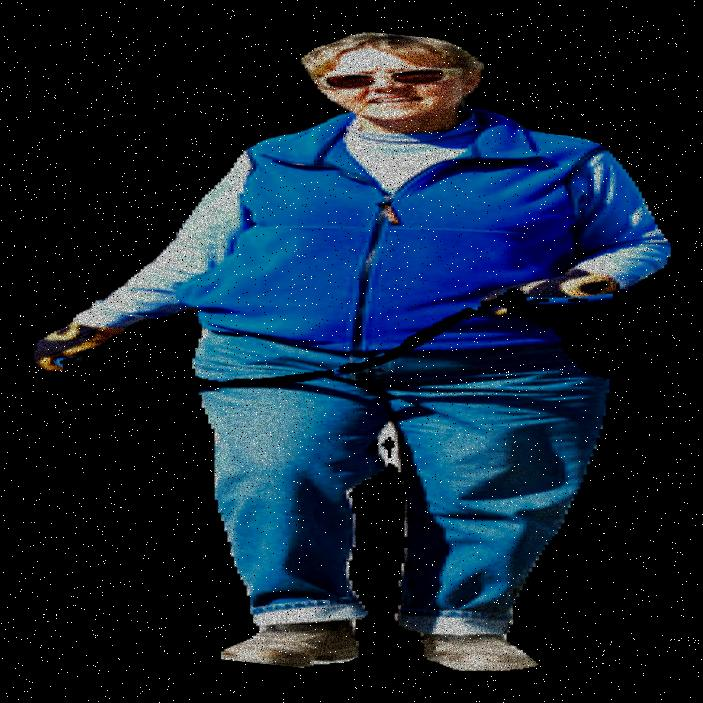Pessoa: (236, 0, 554, 702)
